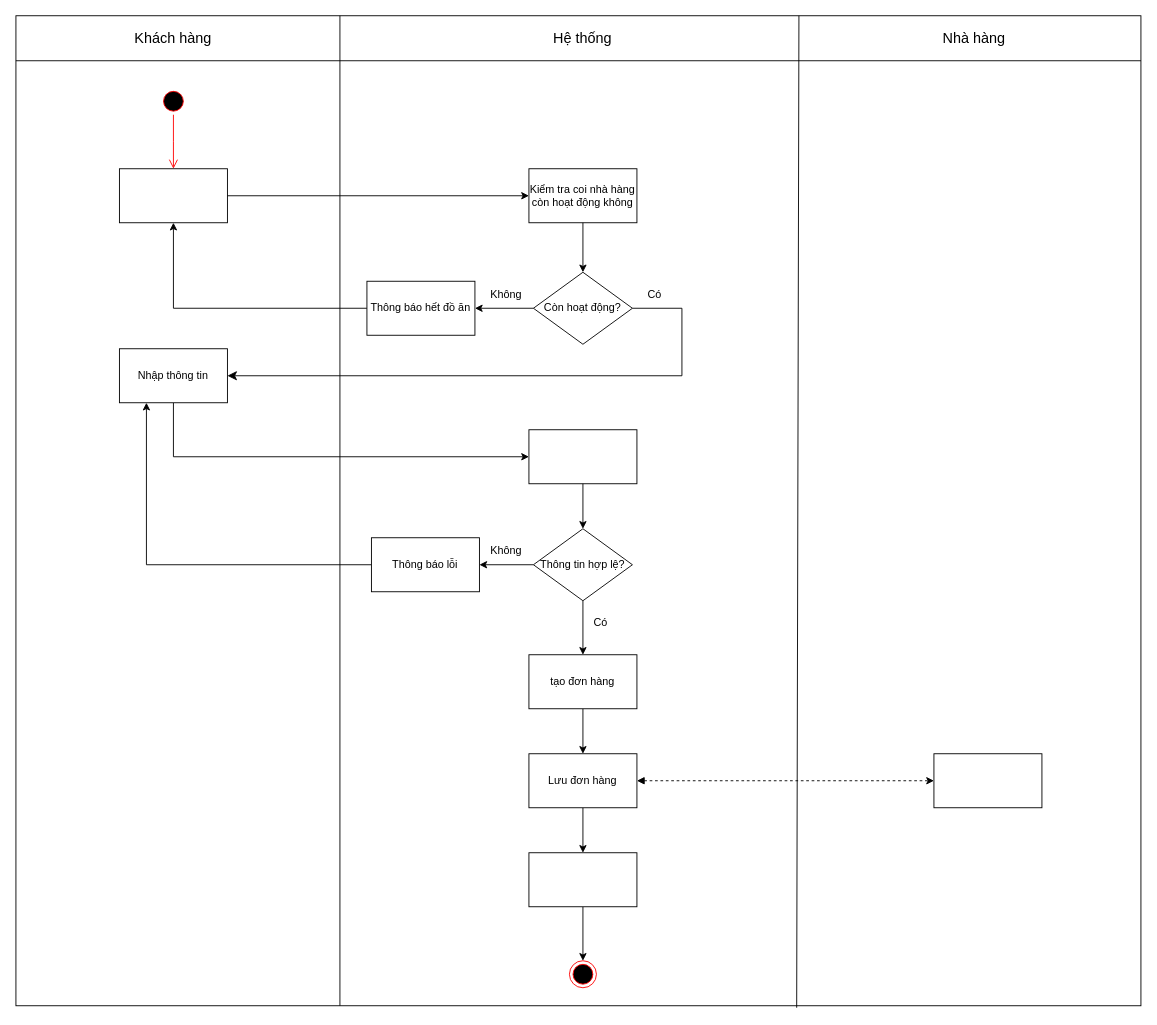
Image size: 1157x1025. Some labels were removed from this diagram. The shapes that lost their labels are listed below. From the top down, each one's centre as x and y in pixels, then its label:
the point at 173,195: Chọn món ăn
the point at 582,456: Kiểm tra coi nhập thông tin có hợp lệ
the point at 987,780: Nhận thông báo có đơn mới
the point at 582,879: Thông báo đặt đồ ăn thành công
